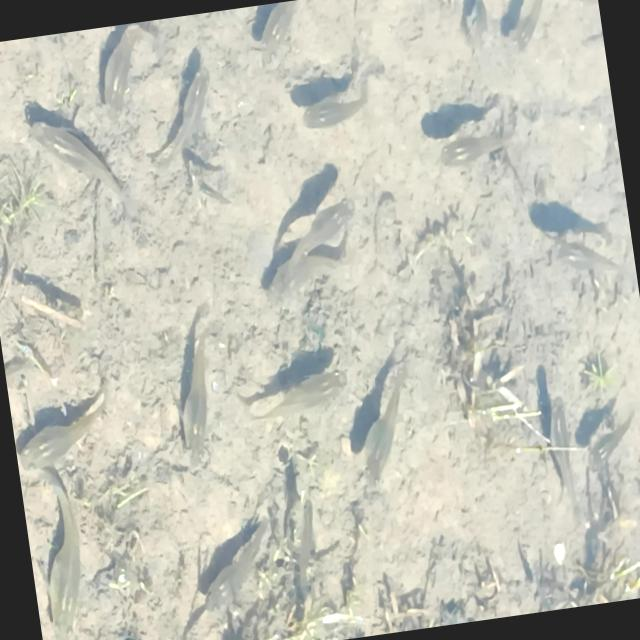Sivrisinek Baligi: (21, 466, 118, 640), (158, 322, 238, 490), (8, 378, 120, 494), (19, 97, 127, 213), (338, 366, 428, 500), (140, 60, 232, 182), (188, 513, 290, 619), (428, 94, 528, 184), (241, 356, 359, 432), (568, 387, 640, 500), (550, 218, 626, 304), (288, 78, 381, 140)
